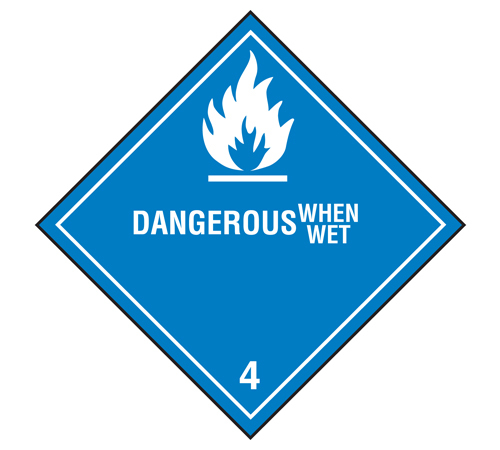DangerousWhenWet: (49, 23, 455, 418)
